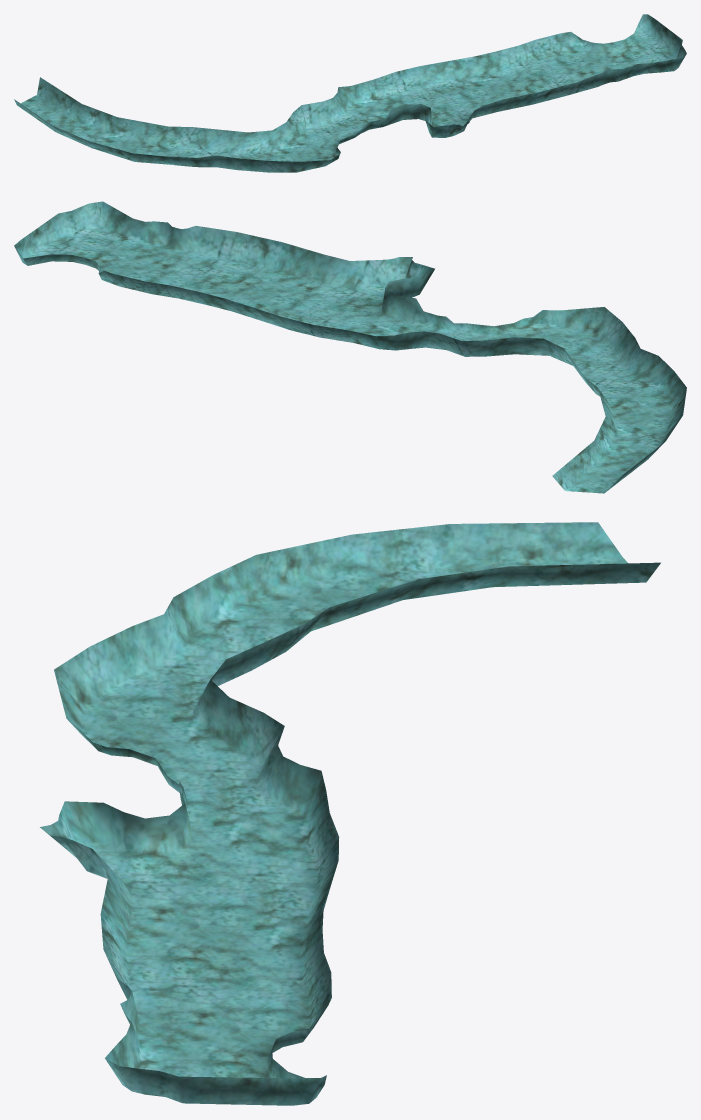
File: EKH_THRONE_PS_TH_RIVER_BOTTOM_01.fbx
3 views of the same model, one above another, from view 1: azimuth 30°, elevation 25°; view 2: azimuth 150°, elevation 25°; view 3: azimuth 270°, elevation 25° (orthographic). The views are drawn at different scales.
Parts seen in each view (by area): view 1: EKH_THRONE_PS_TH_RIVER_BOTTOM_01; view 2: EKH_THRONE_PS_TH_RIVER_BOTTOM_01; view 3: EKH_THRONE_PS_TH_RIVER_BOTTOM_01.
Boxes of the visible parts, left/top/right/bottom form: EKH_THRONE_PS_TH_RIVER_BOTTOM_01: left=14, top=14, right=686, bottom=172; EKH_THRONE_PS_TH_RIVER_BOTTOM_01: left=14, top=201, right=686, bottom=493; EKH_THRONE_PS_TH_RIVER_BOTTOM_01: left=40, top=522, right=660, bottom=1105.
Bounding box in the file's own units: 366297 × 10872 × 174428.
1 material, 1 textured.
